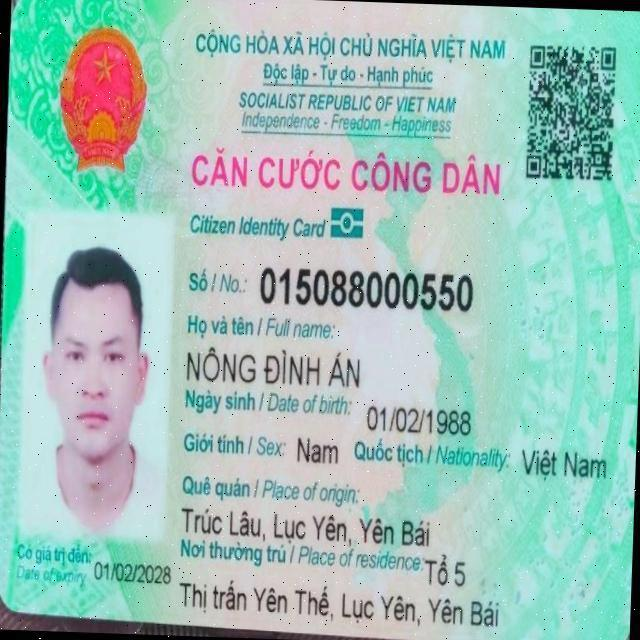current_place: (178, 574, 503, 631), (424, 553, 483, 590)
dob: (361, 396, 481, 439)
expire_date: (91, 555, 174, 590)
gender: (295, 434, 345, 470)
id: (253, 254, 477, 317)
name: (181, 340, 369, 392)
nationality: (518, 435, 612, 484)
origin_place: (174, 500, 451, 549)
